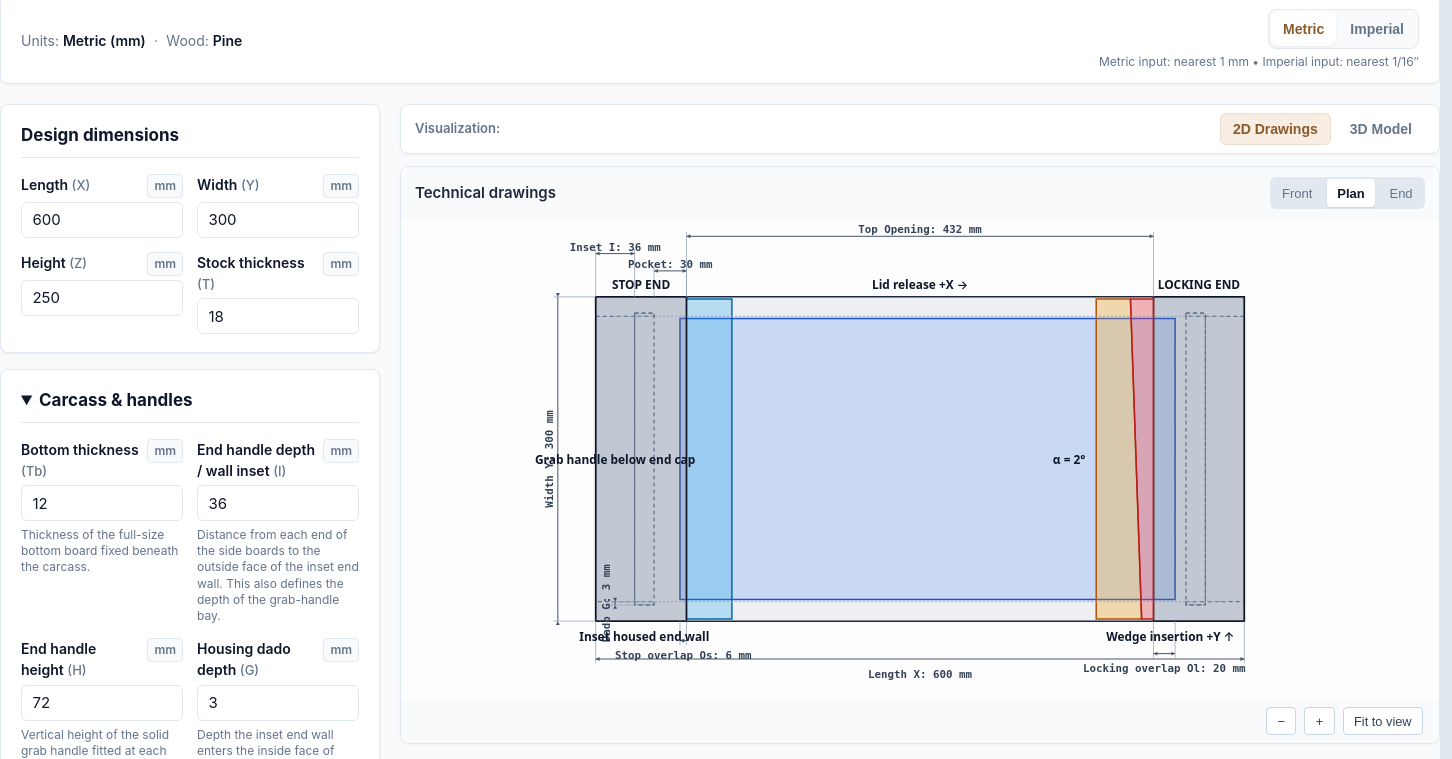
Test case: DesignEditor Component › updates canonical design and calculated dimensions on valid metric edit
Clear the field labelled "Length (X)". click: (102, 220)
box: [21,202,183,238]
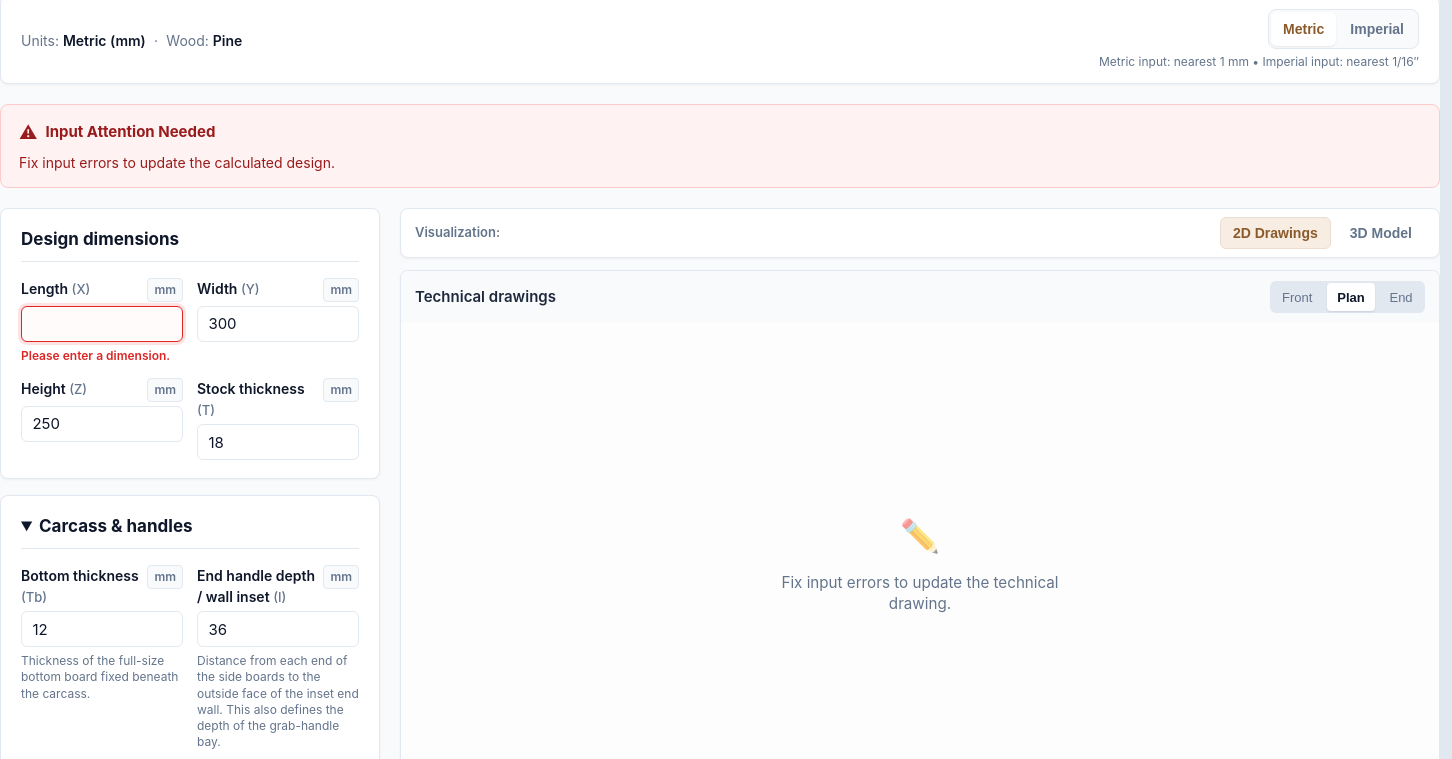
Type "700" into the field labelled "Length (X)". click: (102, 324)
box: [21,306,183,342]
(page scrolled)
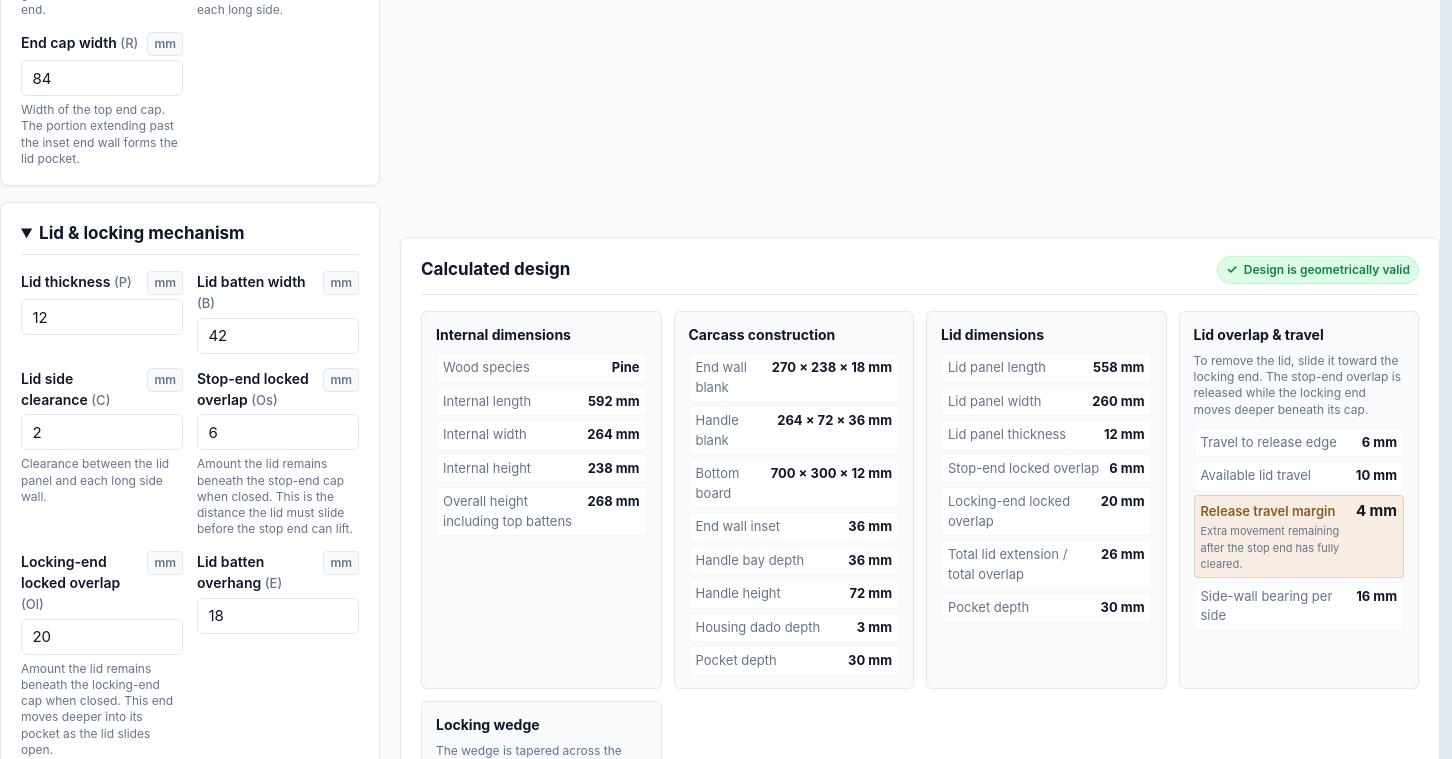
Check: the text "592 mm" is shown, box [588,392,640,411]
